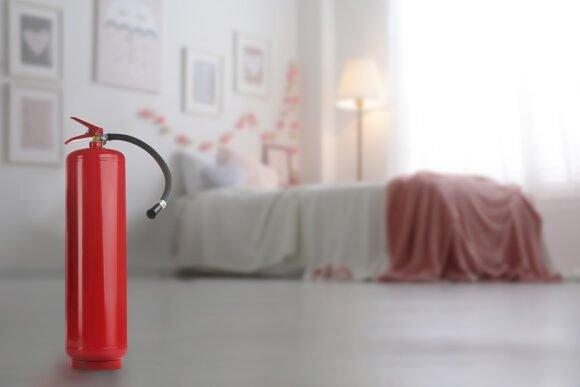floor-kept: (47, 109, 181, 376)
